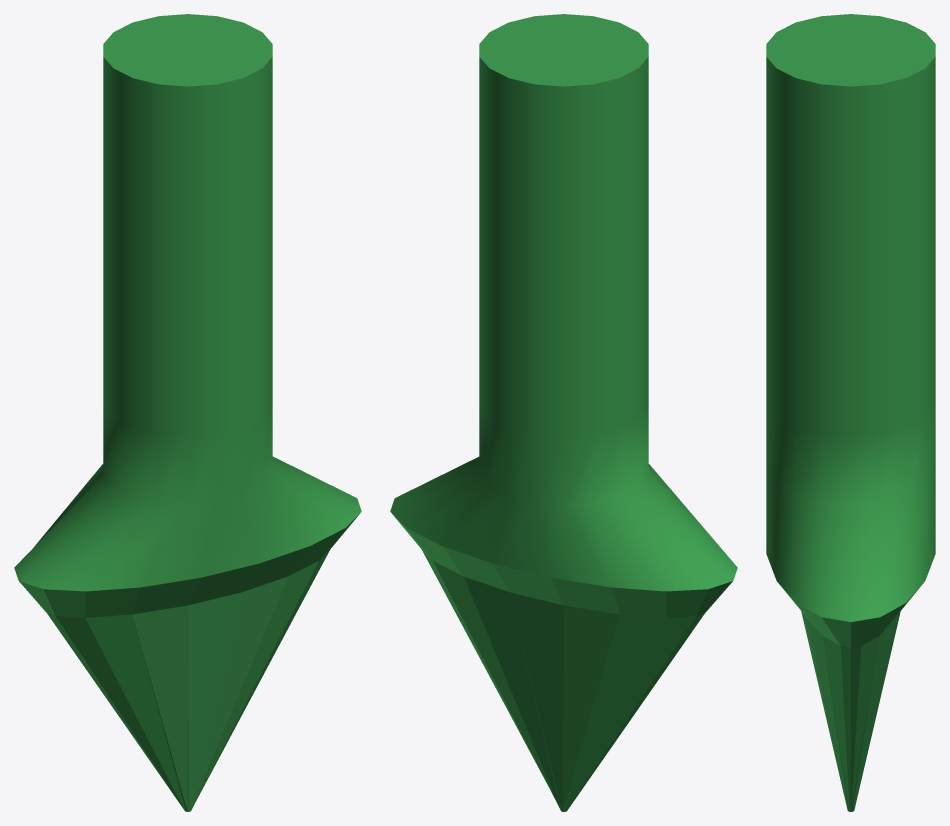
File: arrow_zone.fbx
The picture shows the model from 3 angles, left to right: view 1: azimuth 30°, elevation 25°; view 2: azimuth 150°, elevation 25°; view 3: azimuth 270°, elevation 25°; orthographic projection.
Visible parts, largest first — view 1: Cylinder001; view 2: Cylinder001; view 3: Cylinder001.
Part boxes in pixels (box(x1,y1,x2,y2)): Cylinder001: box(14, 14, 361, 811); Cylinder001: box(390, 14, 737, 811); Cylinder001: box(766, 14, 935, 811).
Bounding box in the file's own units: 91.04 × 195 × 39.39.
